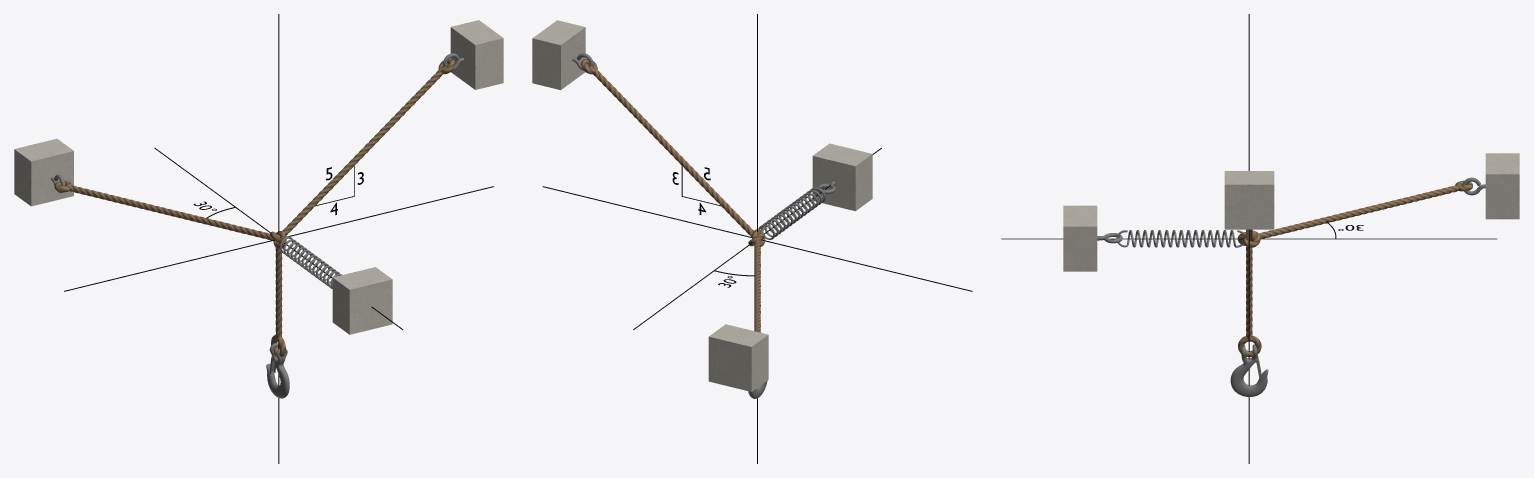
File: 3D_interativo_fisico.glb
3 renders of one model, left to right at view 1: azimuth 30°, elevation 25°; view 2: azimuth 150°, elevation 25°; view 3: azimuth 270°, elevation 25°, orthographic.
Parts seen in each view (by area): view 1: Plane.002, Plane.001, Plane, corda 1, corda 2, Spring, Hook.001, x, corda 3, z; view 2: Plane.001, Plane.002, Plane, corda 1, Spring, x, corda 2; view 3: Plane, Plane.001, Plane.002, corda 2, Spring, Hook.001, y, corda 3.
Boxes of the visible parts, box(x1,y1,x2,y2) form: Plane.002: box(332, 267, 392, 334); Plane.001: box(14, 138, 73, 206); Plane: box(450, 20, 503, 89); corda 1: box(282, 63, 448, 235); corda 2: box(67, 184, 275, 240); Spring: box(279, 235, 342, 288); Hook.001: box(266, 343, 289, 398); x: box(64, 186, 493, 291); corda 3: box(275, 241, 282, 340); z: box(278, 14, 279, 463); Plane.001: box(708, 324, 768, 391); Plane.002: box(812, 143, 872, 211); Plane: box(532, 20, 585, 89); corda 1: box(587, 63, 753, 237); Spring: box(758, 185, 825, 239); x: box(542, 186, 972, 291); corda 2: box(754, 240, 760, 332); Plane: box(1224, 171, 1274, 229); Plane.001: box(1485, 153, 1519, 219); Plane.002: box(1063, 205, 1097, 271); corda 2: box(1259, 184, 1461, 238); Spring: box(1116, 230, 1243, 247); Hook.001: box(1230, 344, 1268, 396); y: box(1001, 238, 1496, 239); corda 3: box(1246, 241, 1252, 340).
Size of the model in its own units: 2 by 2 by 2.09.
9 materials, 3 textured.
